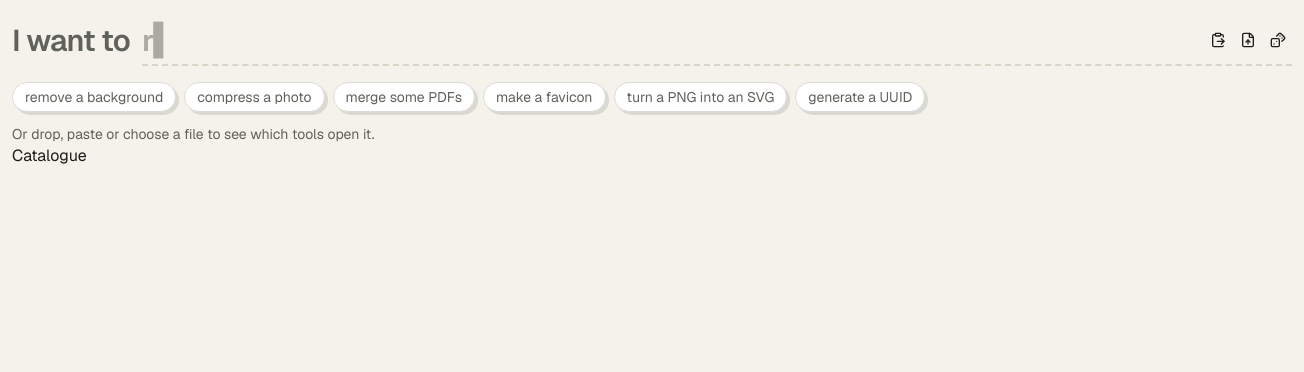
Test: ToolSearch › shows the catalogue until something is typed
Check: the text "Catalogue" is shown, box [12, 145, 87, 166]
Type "uuid" into the search field named "Search tools" at point(671, 40), box [142, 16, 1200, 64]
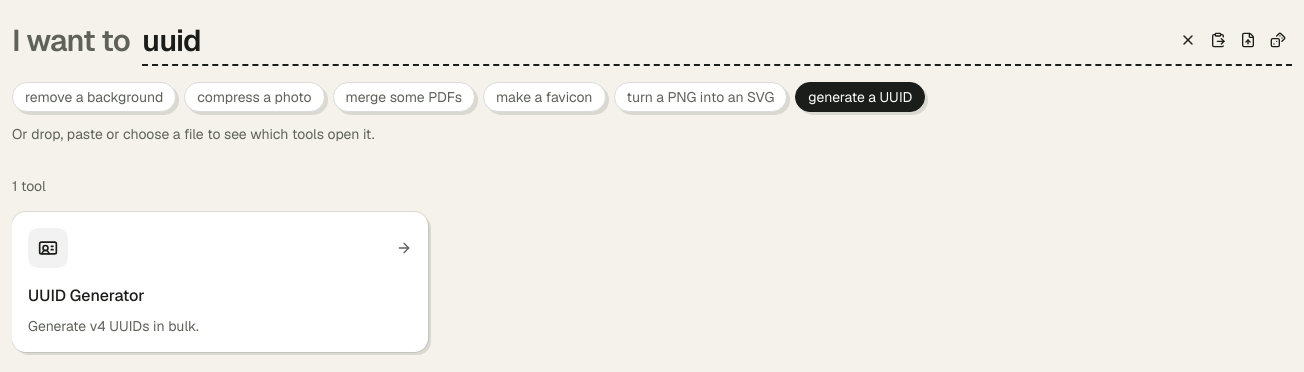
Check: the text "Catalogue" is gone
Check: the text "UUID Generator" is shown, box [28, 285, 145, 306]
